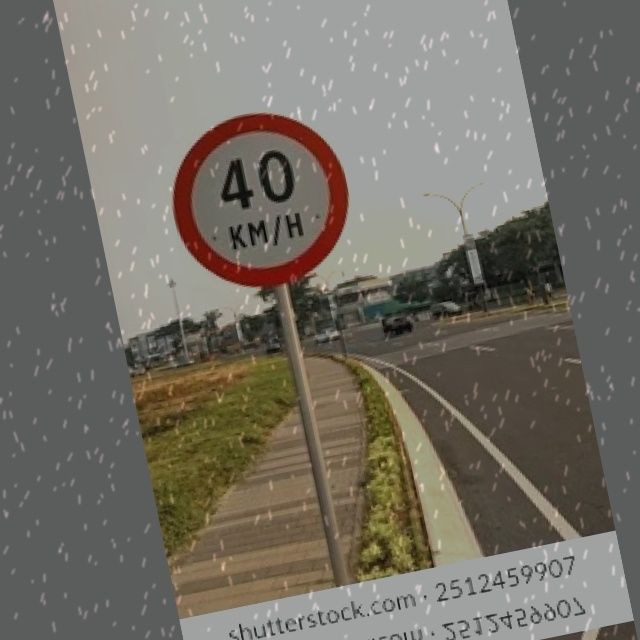Speed_Limit_40: (162, 95, 365, 300)
